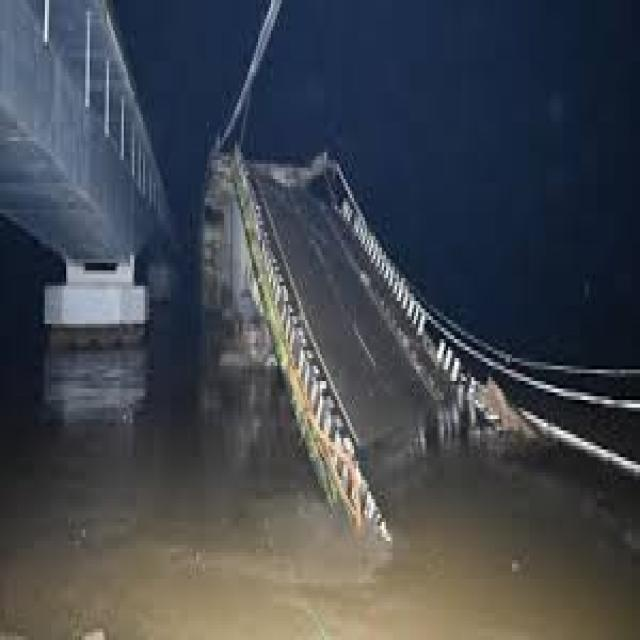bridge collapse: (179, 85, 640, 640)
